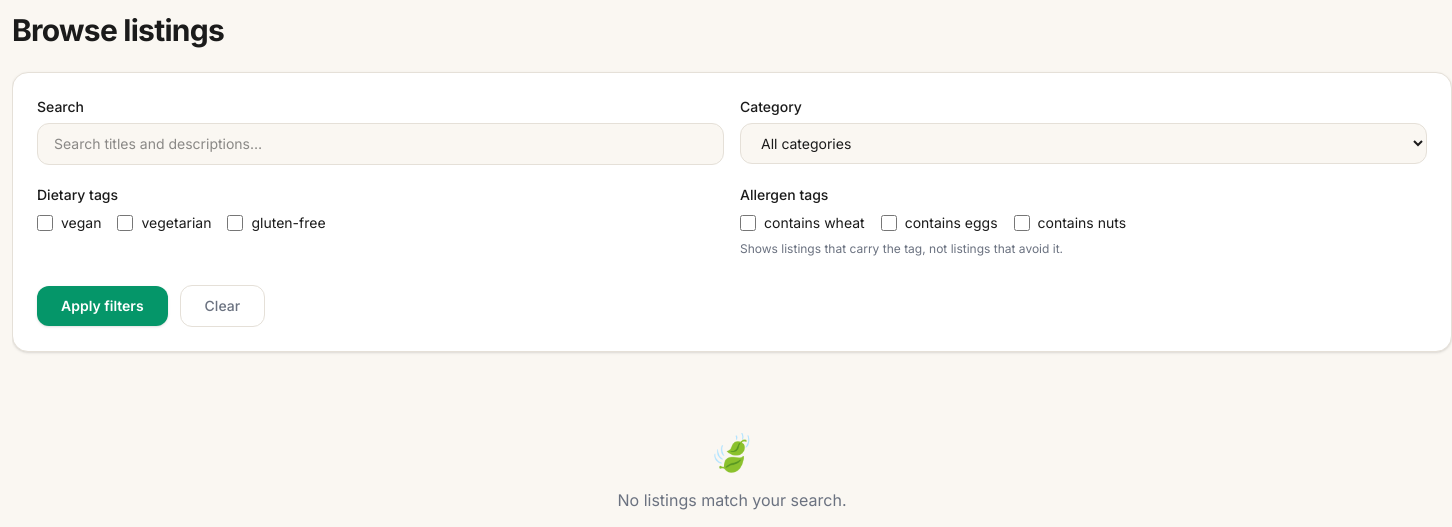
Test: Clear resets the controls and reloads the full list
Expected: the text "No listings match your search." is shown, [618,490,846,510]
Type "lemon" into the field labelled "Search" at (380, 144), box [37,123,724,165]
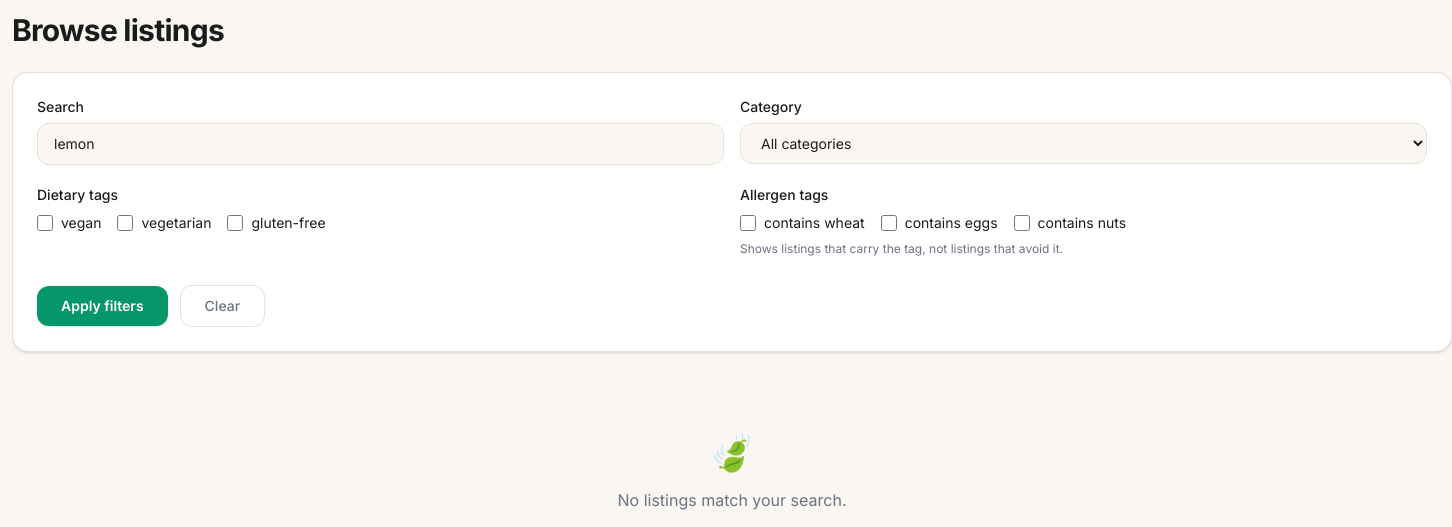
Click the checkbox labelled "vegan" at (45, 223), box [37,215,53,231]
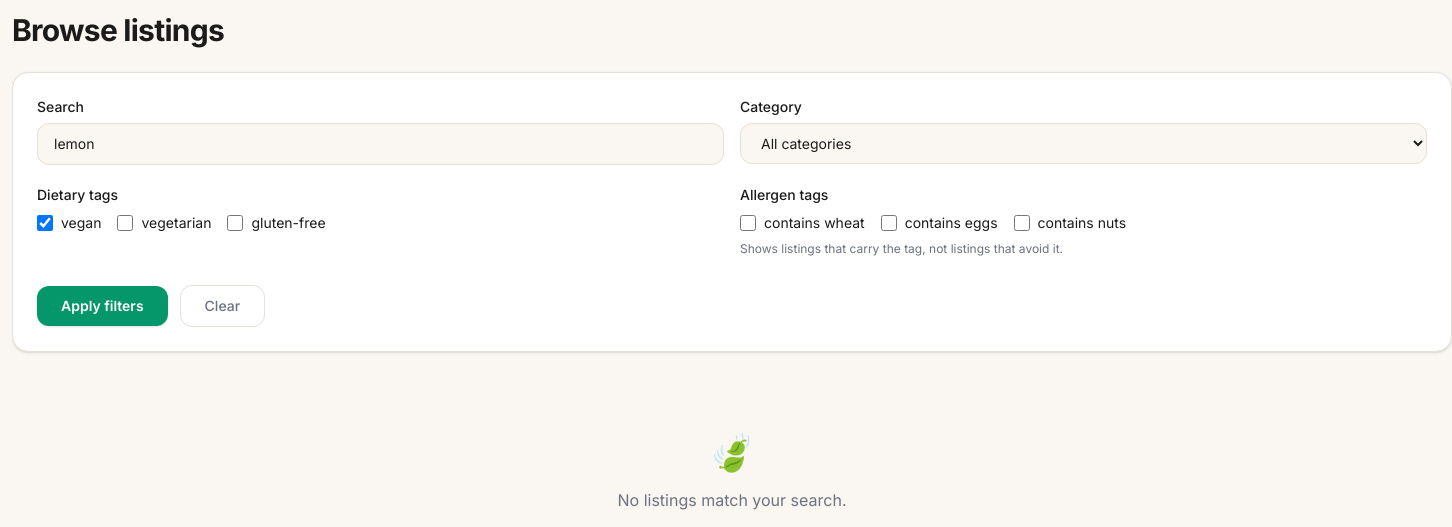
Click the button "Clear" at (222, 306), box [180,285,265,327]
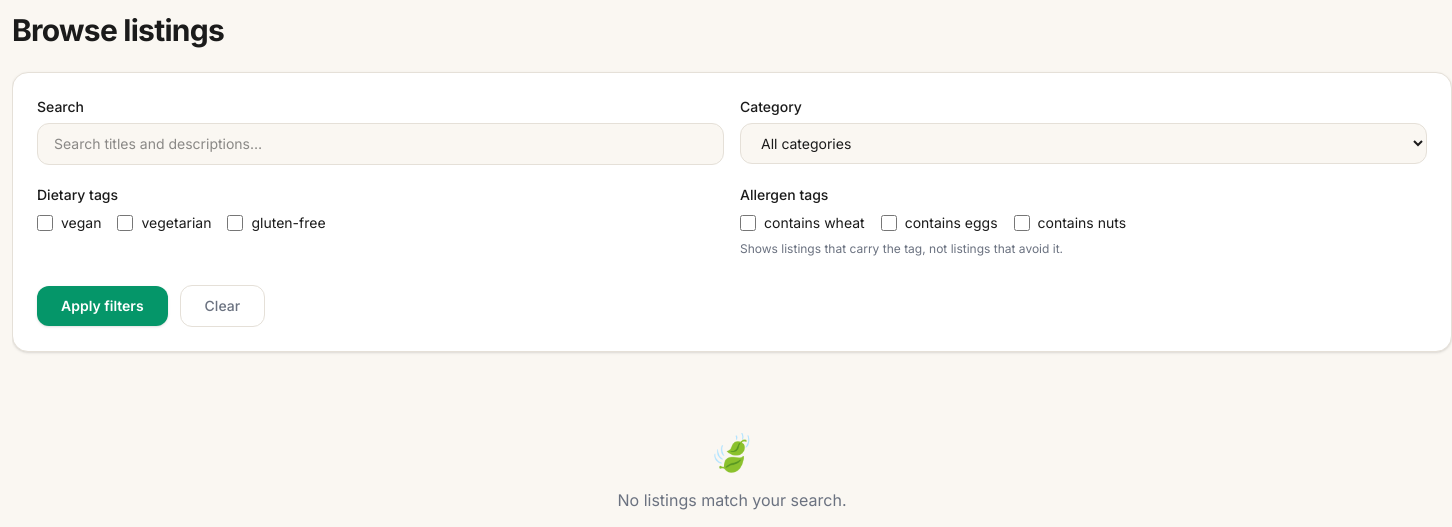
Expected: the checkbox labelled "vegan" is not checked, [37,215,53,231]
Expected: the field labelled "Search" is empty, [37,123,724,165]
